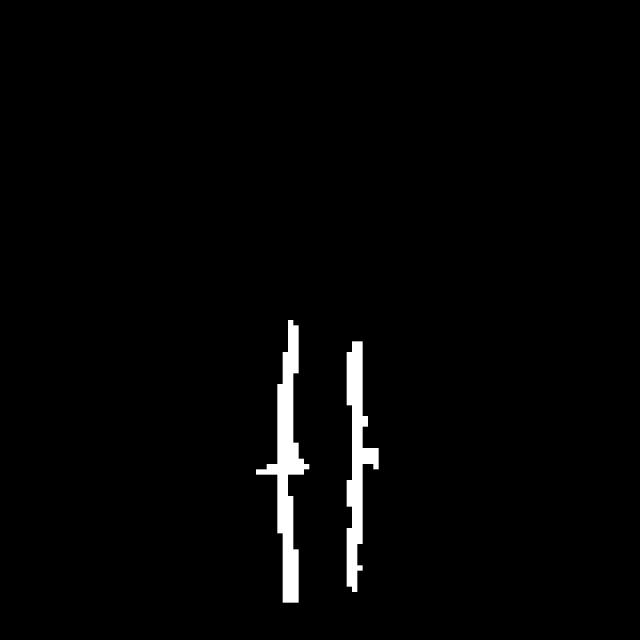capacitor: (272, 308, 376, 614)
